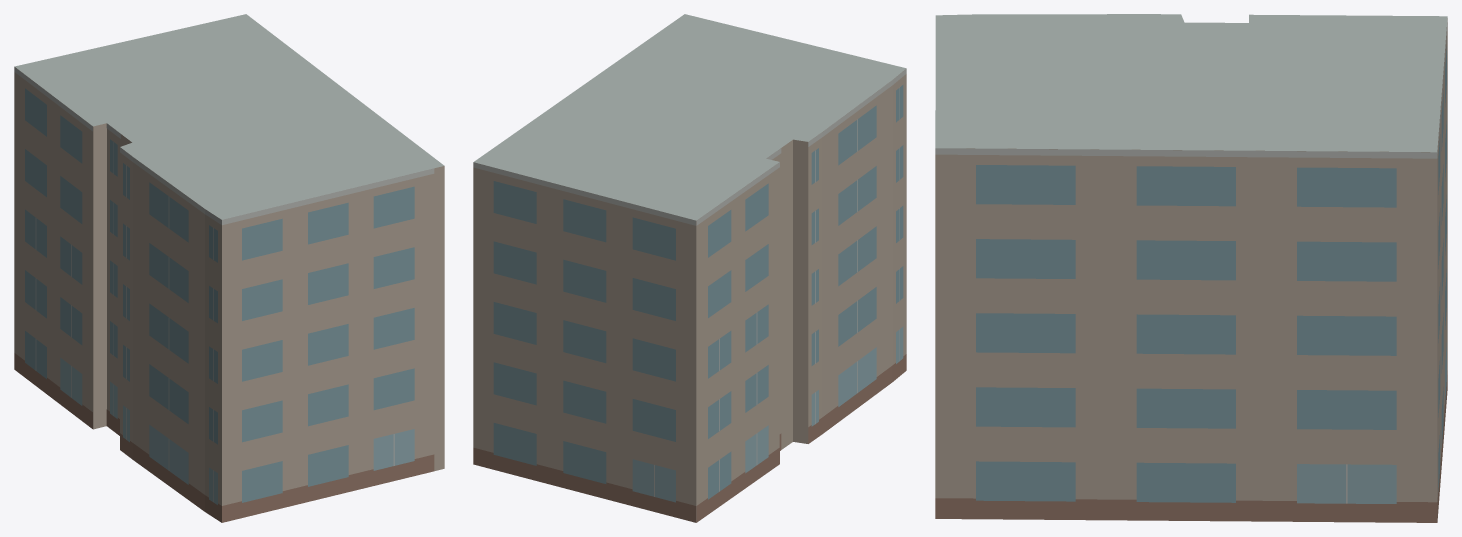
File: survey-upis-32976030.glb
3 views of the same model, side by side, from view 1: azimuth 30°, elevation 25°; view 2: azimuth 150°, elevation 25°; view 3: azimuth 270°, elevation 25° (orthographic). The views are drawn at different scales.
Visible parts, largest first — view 1: survey-upis-32976030.tmp; view 2: survey-upis-32976030.tmp; view 3: survey-upis-32976030.tmp.
Boxes of the visible parts, x1,y1,x2,y2 form: survey-upis-32976030.tmp: (14,14,444,522); survey-upis-32976030.tmp: (473,14,906,522); survey-upis-32976030.tmp: (935,14,1447,522).
Bounding box in the file's own units: 11.12 × 13.9 × 17.42.
